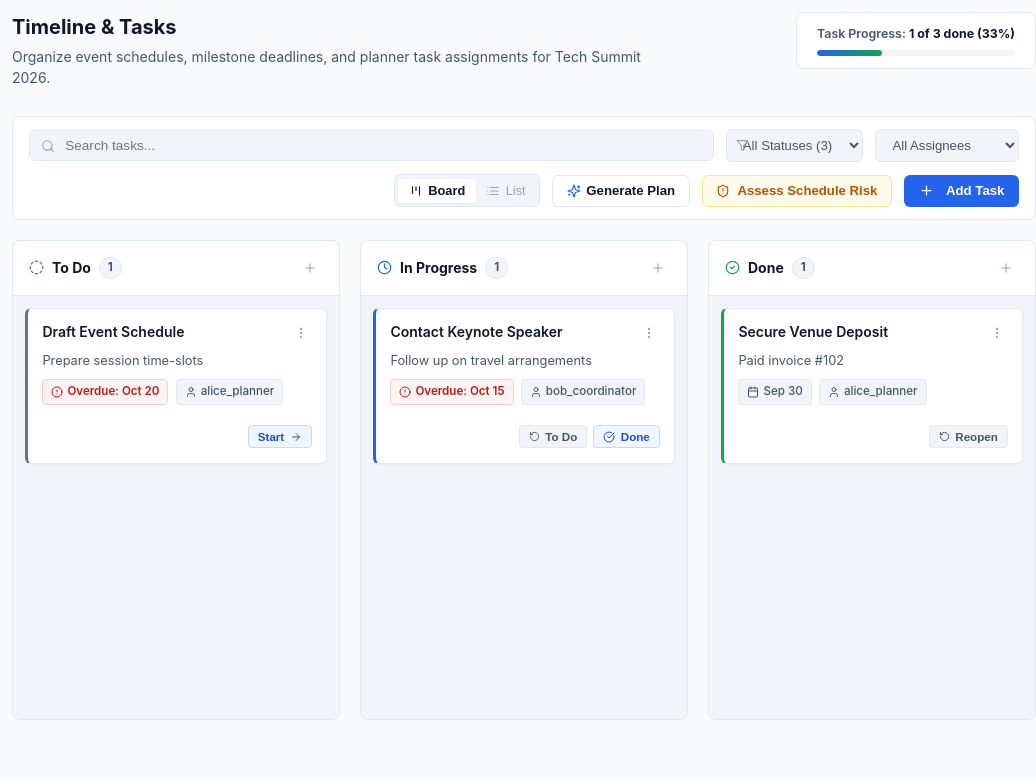
Test: EventTimelineTab & Task Management (Epic 3.3) › toggles between Kanban Board and List view
Click List view toggle button
Step 1. Click the button with aria-label "List view" → x=506, y=191, box [476,179,536,203]
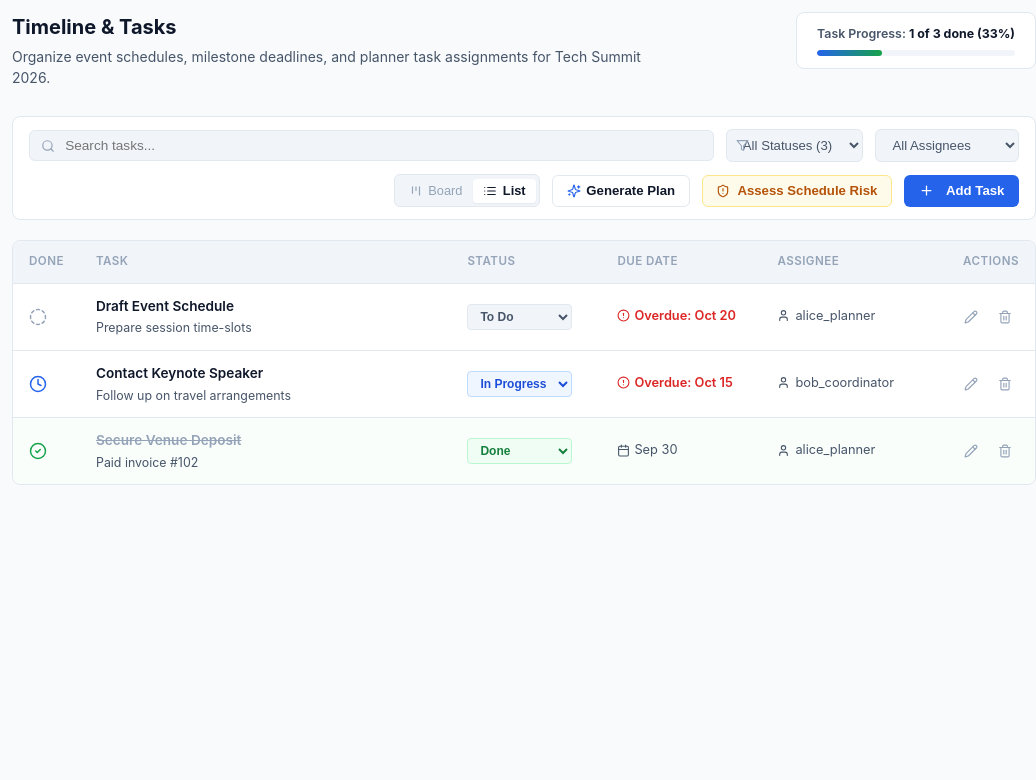
Expected: the column heading "Done" is shown, [13,241,80,283]
Result: the table named "Task List" is shown at [13,241,1035,484]
Result: the column heading "Assignee" is shown at [761,241,941,283]
Click Board view toggle button to switch back
Step 2. Click the button with aria-label "Kanban Board view" → x=436, y=191, box [398,179,473,203]
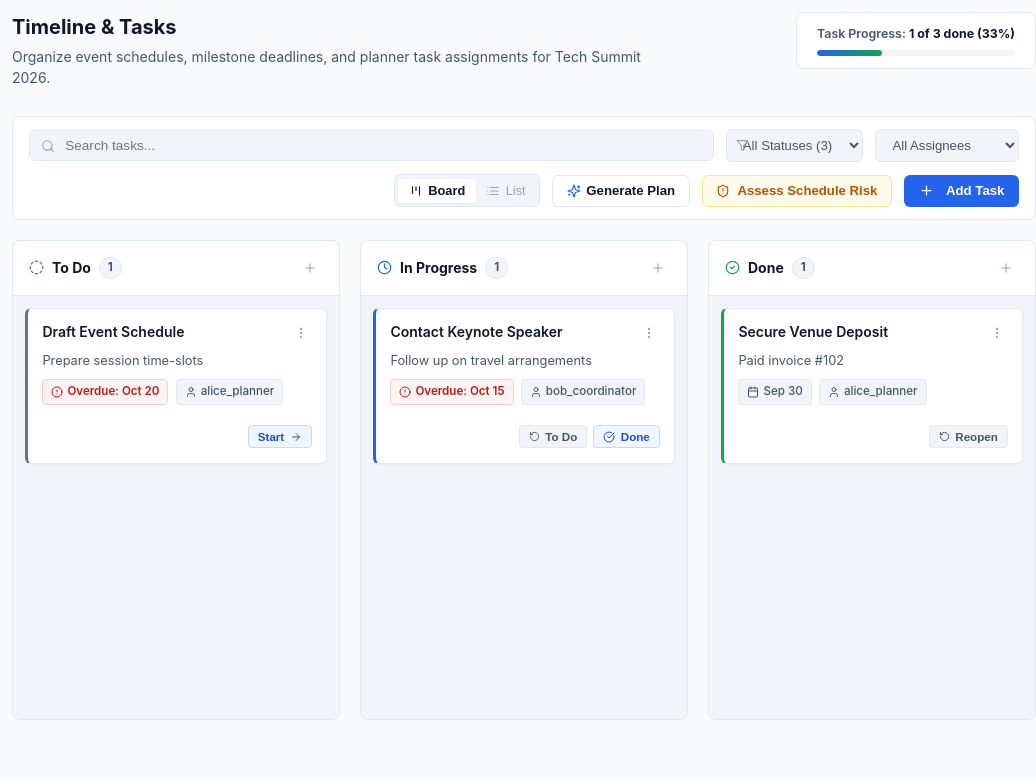
Result: the element named "Tasks Kanban Board" is shown
